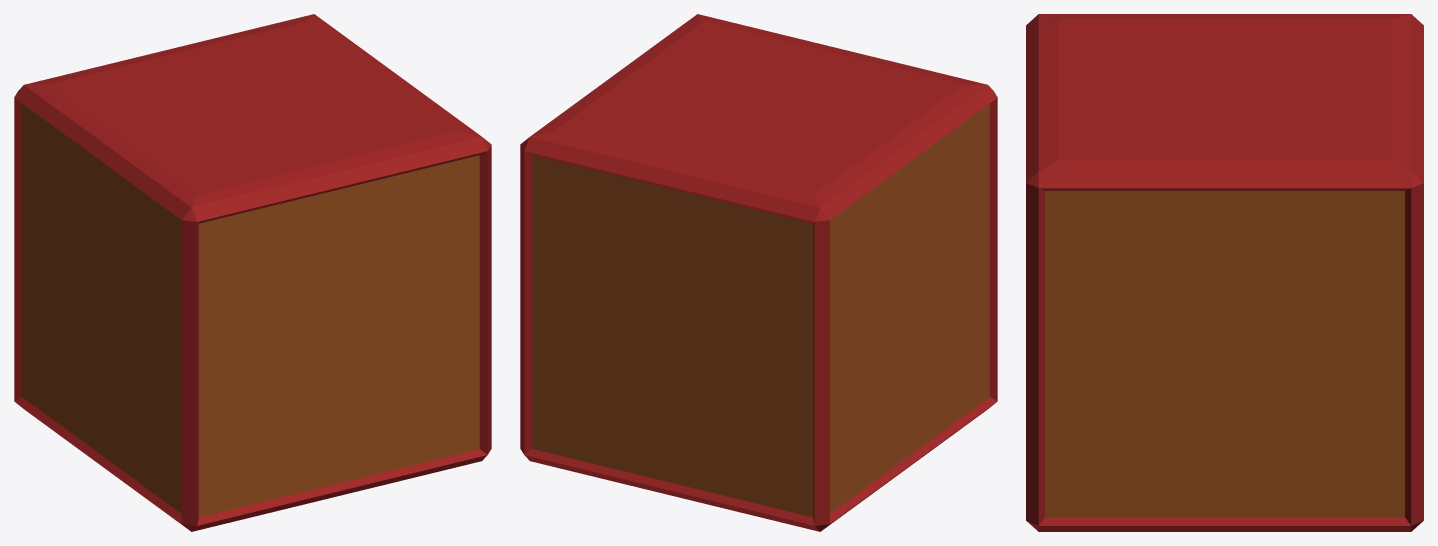
Rendered from model-destructable-wood-box.fbx.
The picture shows the model from 3 angles, left to right: view 1: azimuth 30°, elevation 25°; view 2: azimuth 150°, elevation 25°; view 3: azimuth 270°, elevation 25°; orthographic projection. The views are drawn at different scales.
Visible parts, largest first — view 1: mesh; view 2: mesh; view 3: mesh.
Part boxes in pixels (box(x1,y1,x2,y2)): mesh: box(14, 14, 491, 531); mesh: box(520, 14, 997, 531); mesh: box(1026, 14, 1423, 531).
Size of the model in its own units: 1.31 by 1.31 by 1.33.
